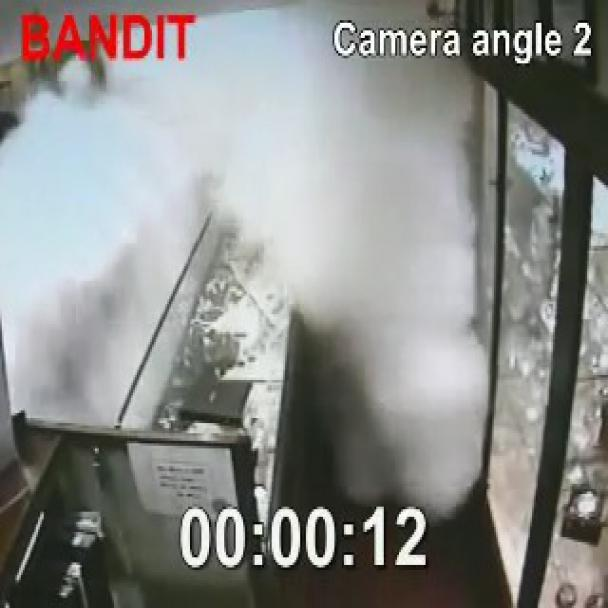smoke: (0, 0, 521, 591)
